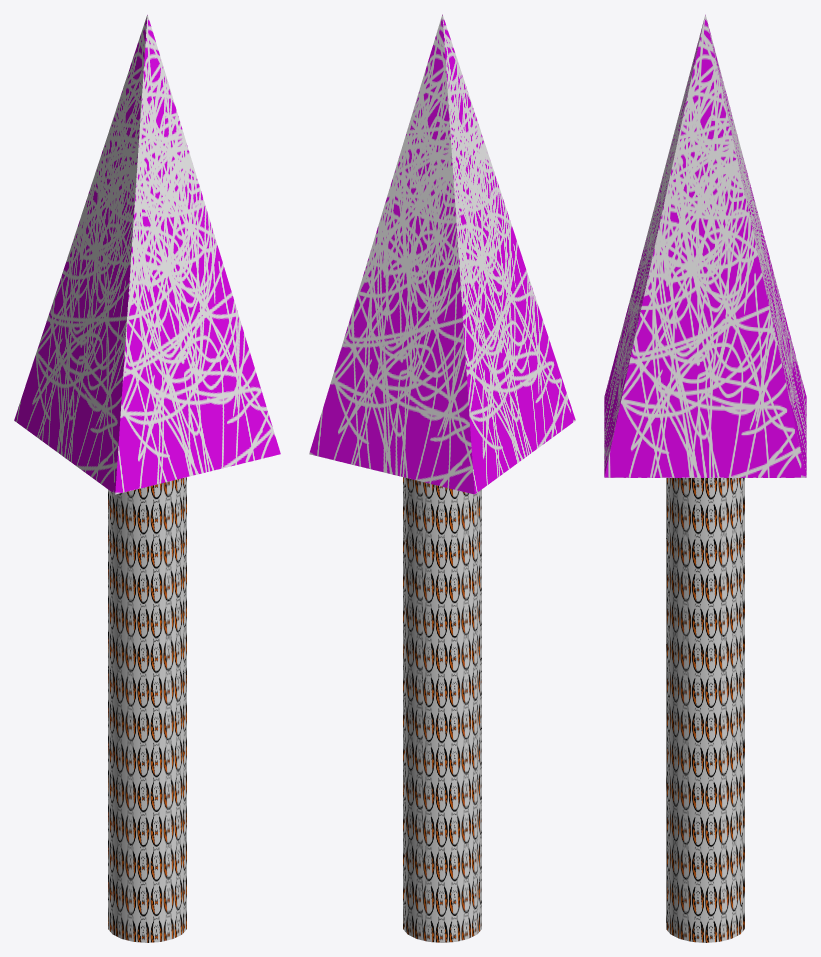
Rendered from symbolTreeGreen.FBX.
3 renders of one model, left to right at view 1: azimuth 30°, elevation 25°; view 2: azimuth 150°, elevation 25°; view 3: azimuth 270°, elevation 25°, orthographic.
Visible parts, largest first — view 1: Pyramid001, Cylinder001; view 2: Pyramid001, Cylinder001; view 3: Pyramid001, Cylinder001.
Boxes of the visible parts, box(x1,y1,x2,y2) form: Pyramid001: box(14, 14, 280, 494); Cylinder001: box(108, 477, 186, 942); Pyramid001: box(309, 14, 575, 494); Cylinder001: box(403, 477, 481, 942); Pyramid001: box(604, 14, 806, 477); Cylinder001: box(666, 478, 744, 942).
Bounding box in the file's own units: 536 × 567 × 2819.
2 materials, 2 textured.
